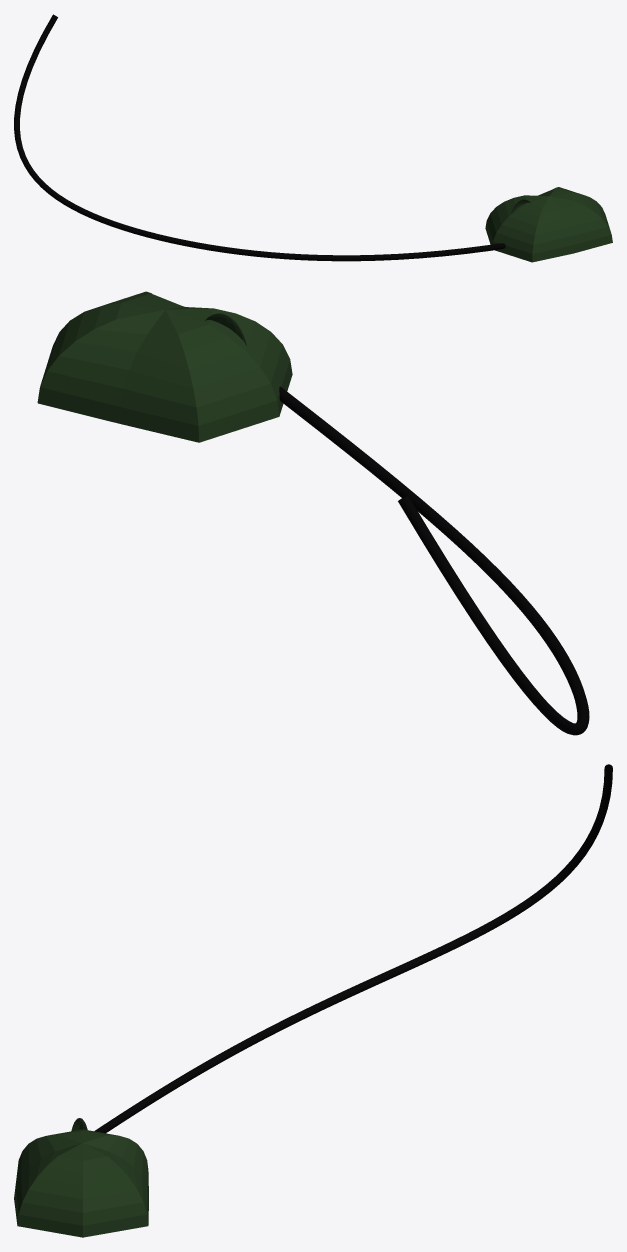
File: pcRaton.fbx
The picture shows the model from 3 angles, top to bottom: view 1: azimuth 30°, elevation 25°; view 2: azimuth 150°, elevation 25°; view 3: azimuth 270°, elevation 25°; orthographic projection. The views are drawn at different scales.
Parts seen in each view (by area): view 1: Sphere, NurbsPath.002; view 2: Sphere, NurbsPath.002; view 3: Sphere, NurbsPath.002.
Part boxes in pixels (x1,y1,x2,y2): Sphere: [485, 187, 612, 262]; NurbsPath.002: [14, 14, 505, 261]; Sphere: [37, 291, 292, 442]; NurbsPath.002: [279, 386, 589, 735]; Sphere: [14, 1118, 148, 1237]; NurbsPath.002: [94, 764, 612, 1133].
Size of the model in its own units: 321 by 121 by 283.
